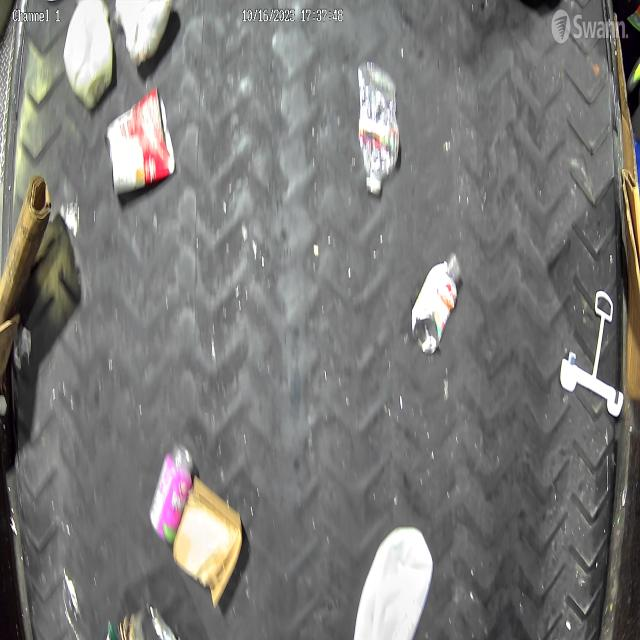can: (103, 95, 176, 199)
milk_jug: (356, 524, 436, 640)
plastic_bottle: (361, 55, 395, 194)
